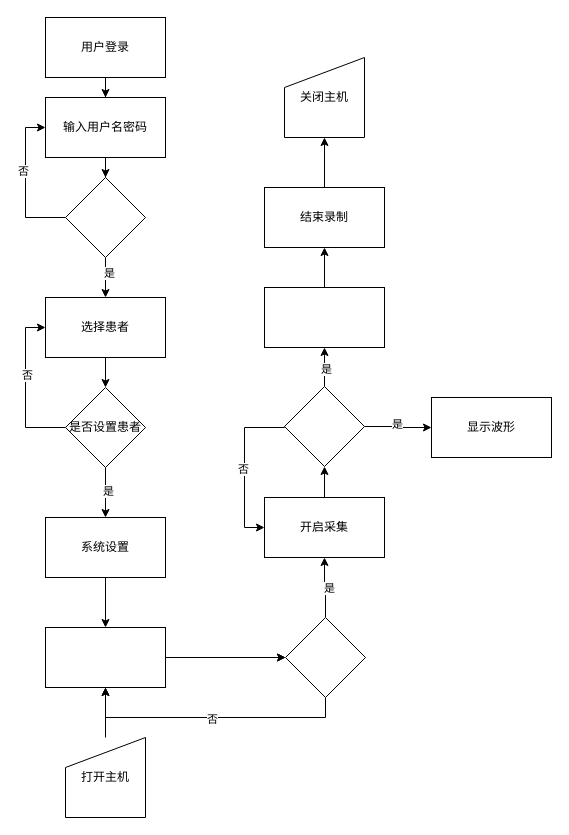
Image size: 569x835. Some labels were removed from this diagram. Here are the shapes that lost their labels. From the top down, the centre of each, then its label:
point 105,217: 是否正确
point 324,317: 录制数据
point 324,426: 是否已开启
point 105,657: 扫描链接设备
point 325,657: 是否扫描到设备
